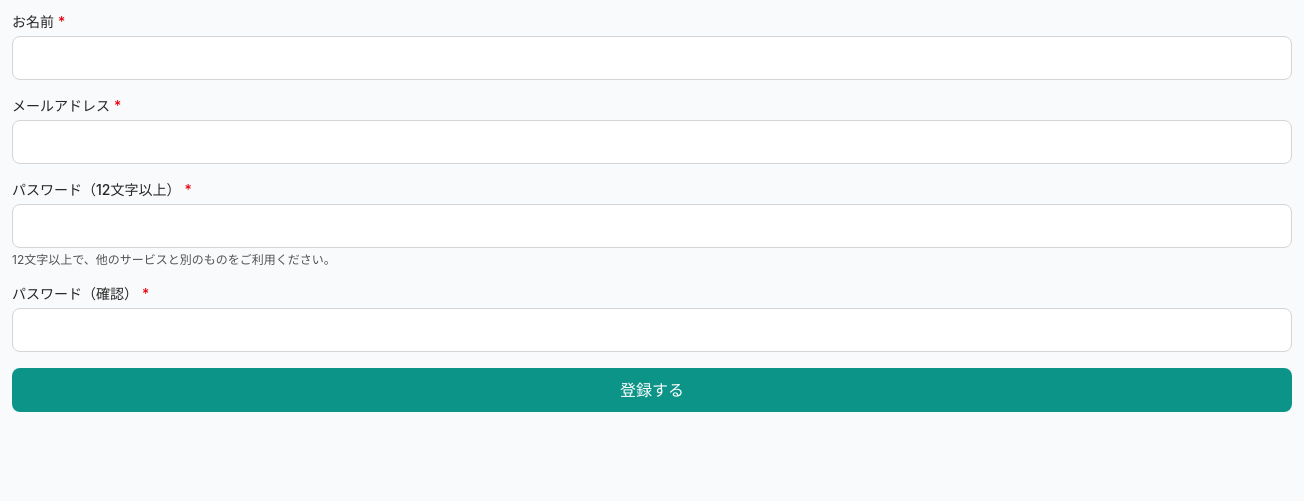
RegisterForm › 必須項目が未入力ならエラー
The image size is (1304, 501).
Click the button "登録する": (652, 390) [12,368,1292,412]
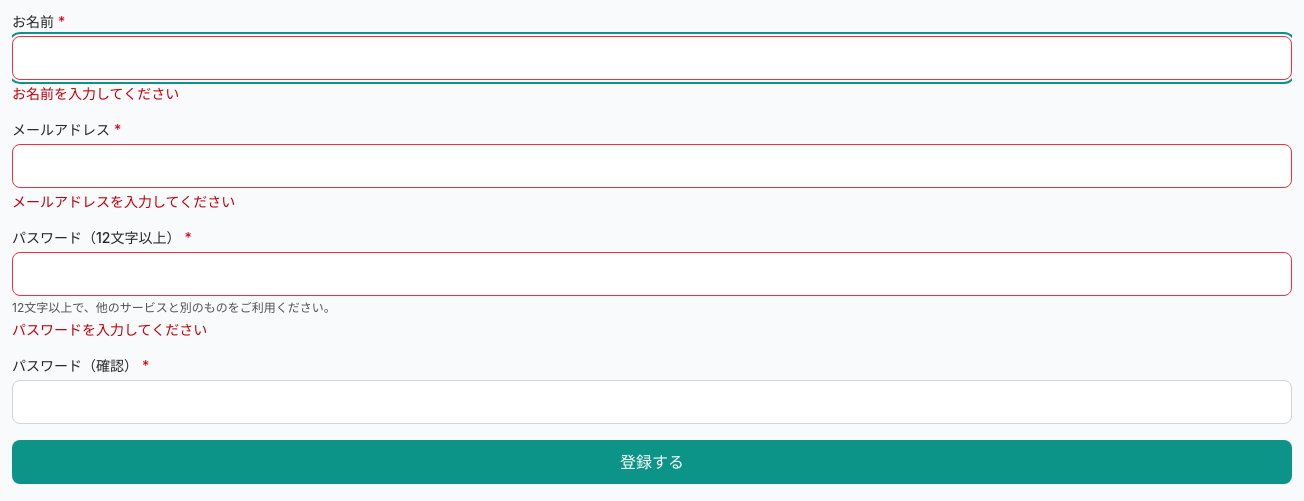
Expected: the text "お名前を入力してください" is shown, [12,85,179,102]
Expected: the text "メールアドレスを入力してください" is shown, [12,193,235,210]
